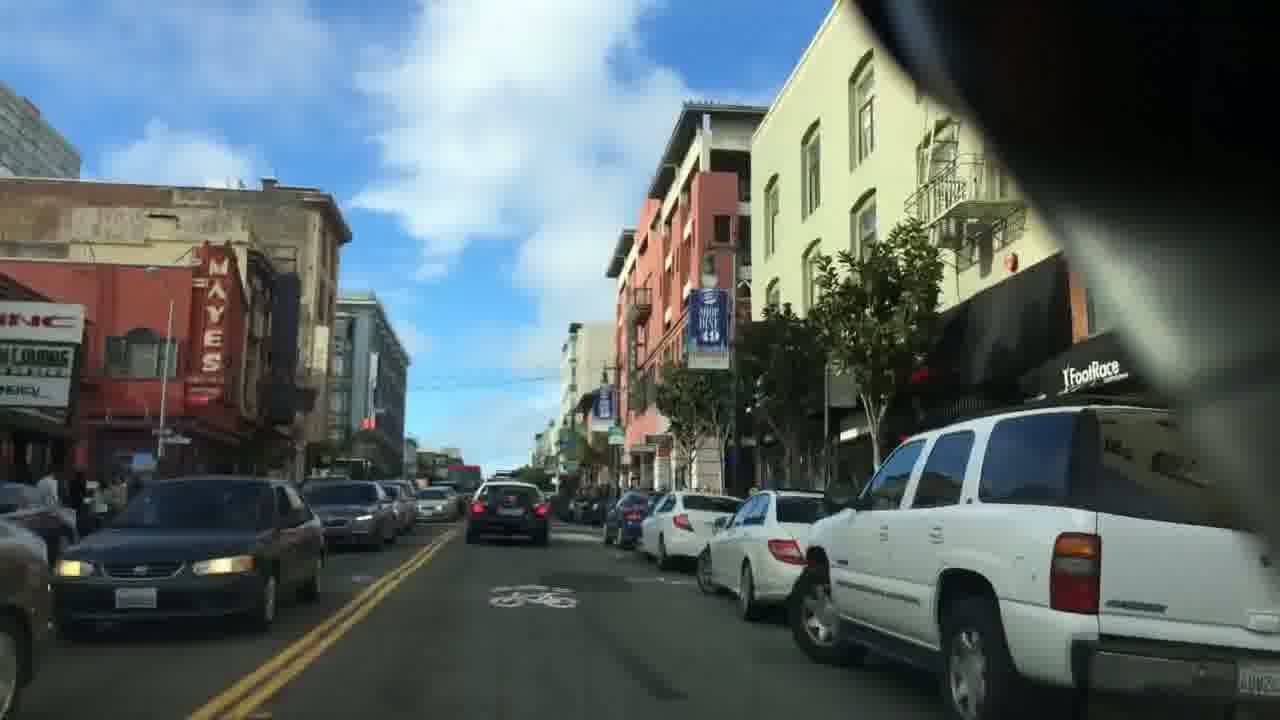car: (786, 404, 1280, 720), (50, 470, 326, 643), (694, 487, 826, 622), (633, 490, 743, 570), (297, 478, 394, 552), (464, 480, 550, 544), (602, 488, 663, 549), (413, 485, 460, 521)
